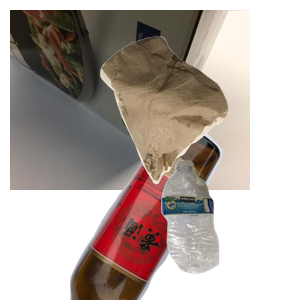cardboard: (10, 10, 250, 190)
glass: (67, 120, 282, 300)
plastic: (159, 158, 300, 300)
trash: (98, 34, 300, 211)
